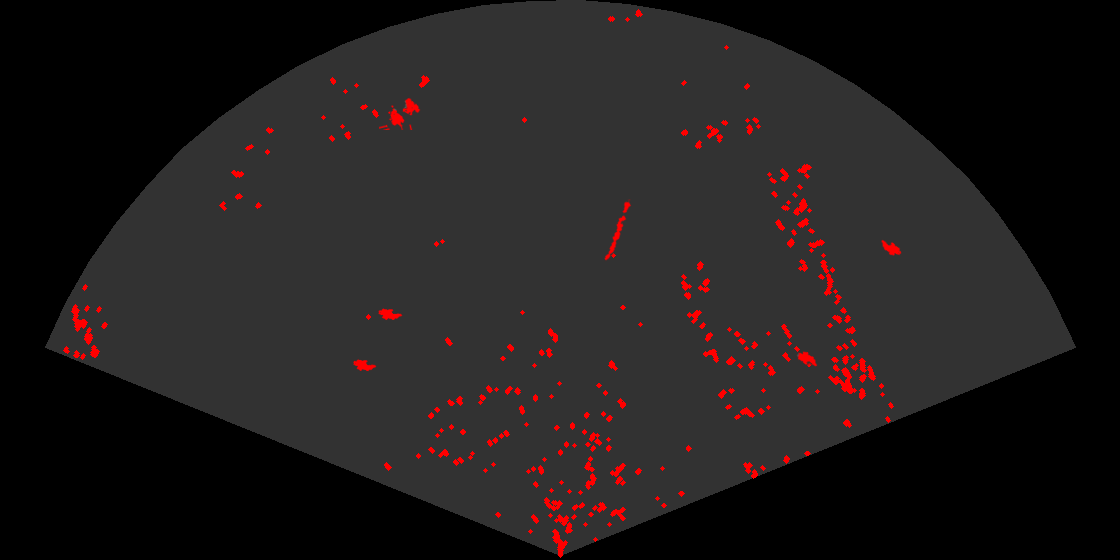AUV: (880, 238, 903, 257), (796, 350, 819, 368), (377, 307, 404, 321), (352, 358, 378, 372)
cage: (379, 96, 422, 130)
chain: (603, 199, 633, 262)
